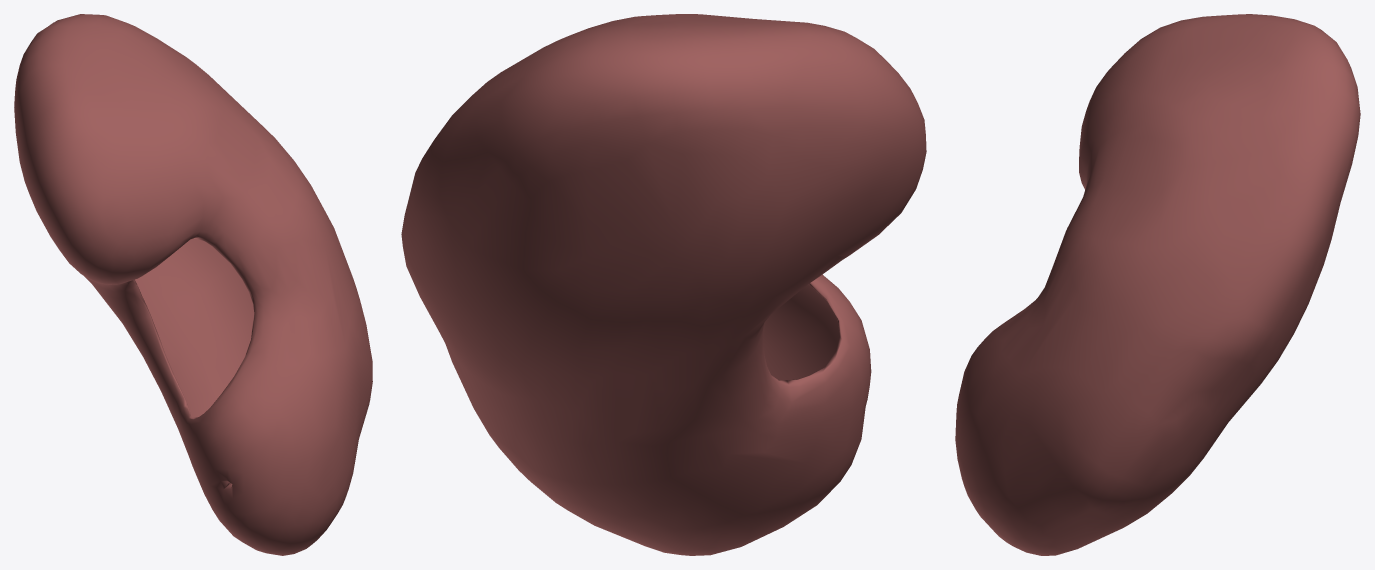
Rendered from kidney_left.glb.
The picture shows the model from 3 angles, left to right: view 1: azimuth 30°, elevation 25°; view 2: azimuth 150°, elevation 25°; view 3: azimuth 270°, elevation 25°; orthographic projection. The views are drawn at different scales.
Parts seen in each view (by area): view 1: kidney_left; view 2: kidney_left; view 3: kidney_left.
Part boxes in pixels (bbox=[...]): kidney_left: bbox=[14, 14, 372, 555]; kidney_left: bbox=[401, 14, 926, 555]; kidney_left: bbox=[955, 14, 1360, 555].
Size of the model in its own units: 0.0756 by 0.1065 by 0.0824.
